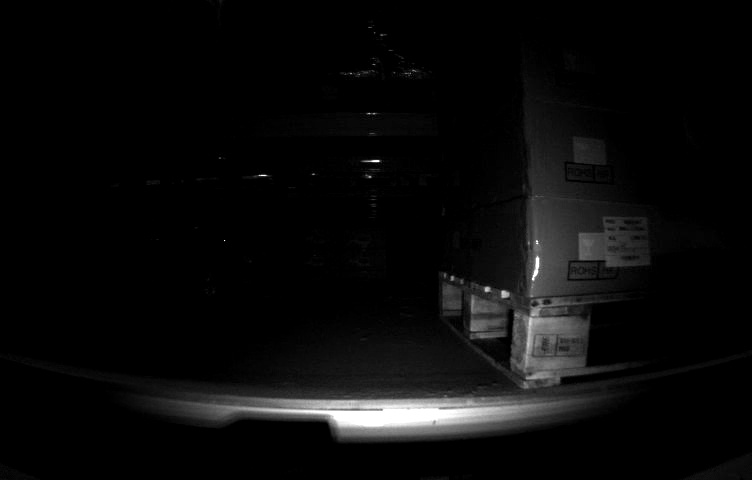True Barcode: (600, 214, 658, 278)
